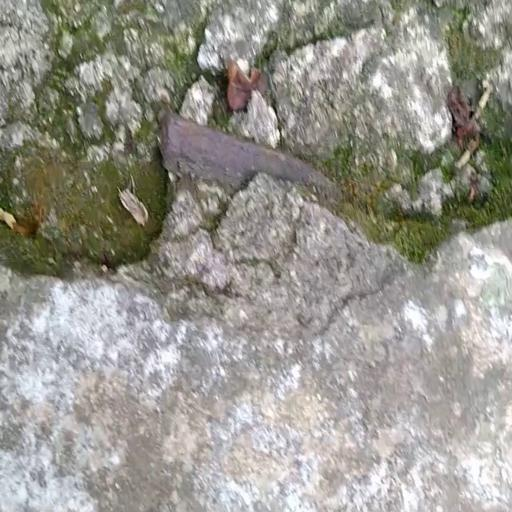spalling: (2, 0, 512, 324)
